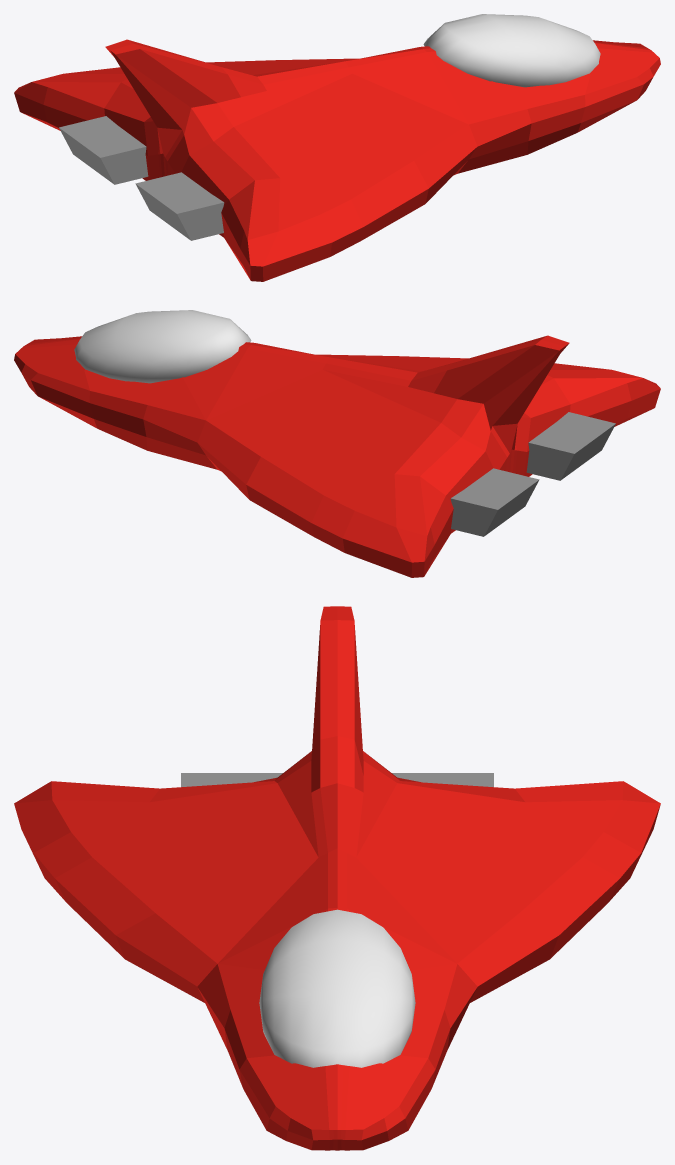
File: player_spaceship.fbx
3 renders of one model, top to bottom at view 1: azimuth 30°, elevation 25°; view 2: azimuth 150°, elevation 25°; view 3: azimuth 270°, elevation 25°, orthographic. The views are drawn at different scales.
Visible parts, largest first — view 1: Cube, Sphere, Cube.001; view 2: Cube, Sphere, Cube.001; view 3: Cube, Sphere, Cube.001.
Boxes of the visible parts, bbox=[...] form: Cube: bbox=[14, 39, 660, 281]; Sphere: bbox=[423, 14, 600, 87]; Cube.001: bbox=[59, 116, 224, 240]; Cube: bbox=[14, 335, 660, 577]; Sphere: bbox=[74, 310, 251, 383]; Cube.001: bbox=[450, 412, 615, 536]; Cube: bbox=[14, 606, 660, 1150]; Sphere: bbox=[259, 909, 415, 1067]; Cube.001: bbox=[181, 773, 493, 787].
Size of the model in its own units: 691 by 214 by 539.
